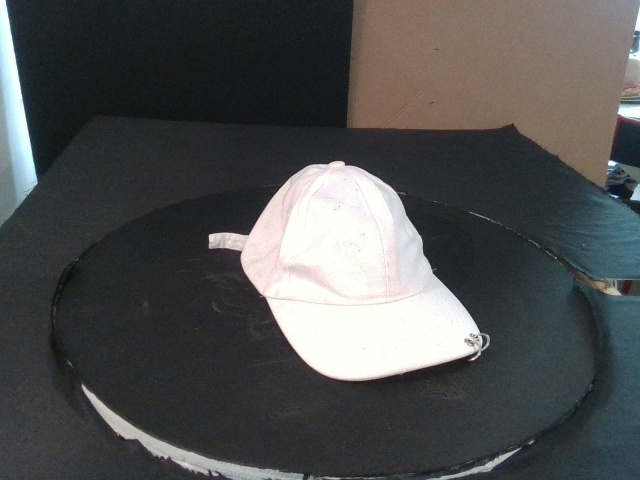hat: (241, 162, 483, 382)
